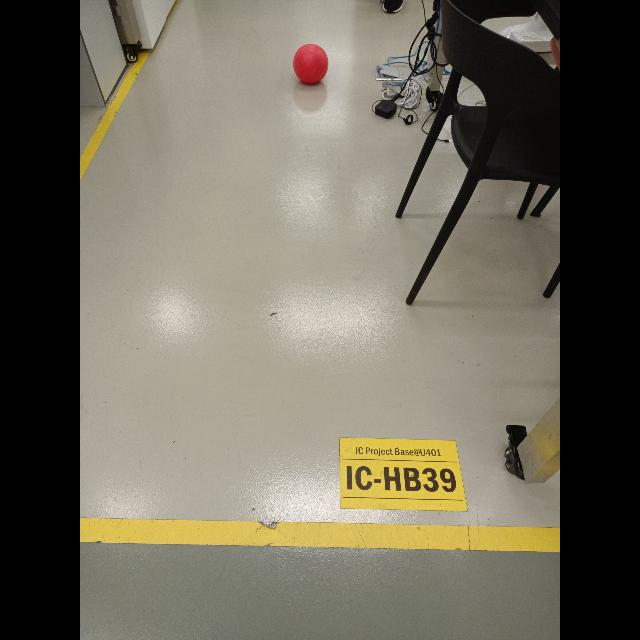R: (294, 44, 328, 84)
